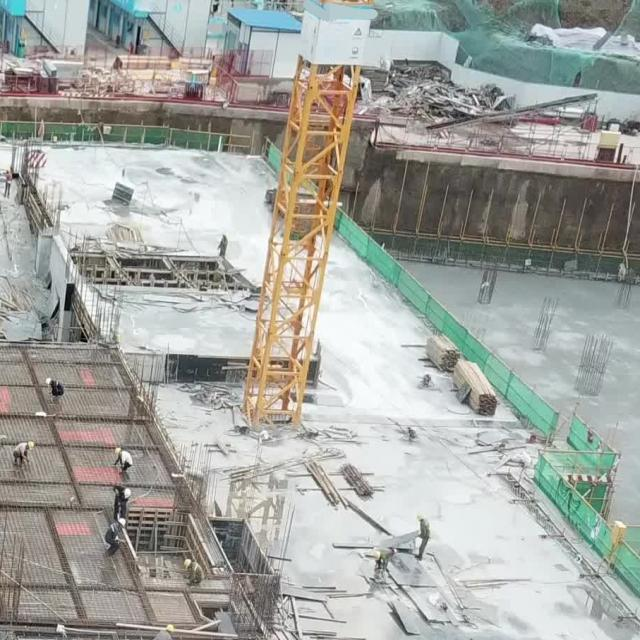crane: (240, 0, 372, 428)
